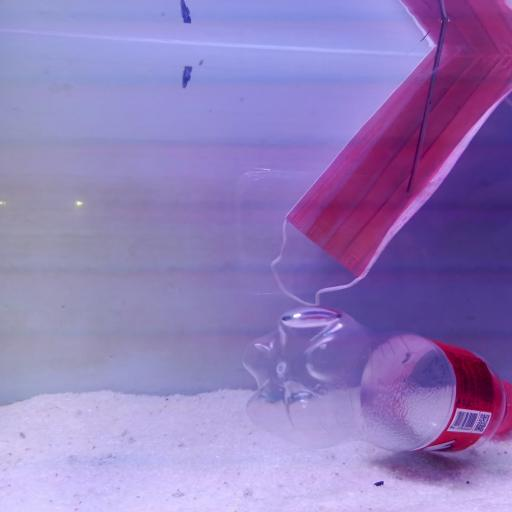bottle_cap: (499, 376, 512, 448)
mask: (272, 56, 503, 308)
plastic_bottle: (244, 314, 512, 467)
